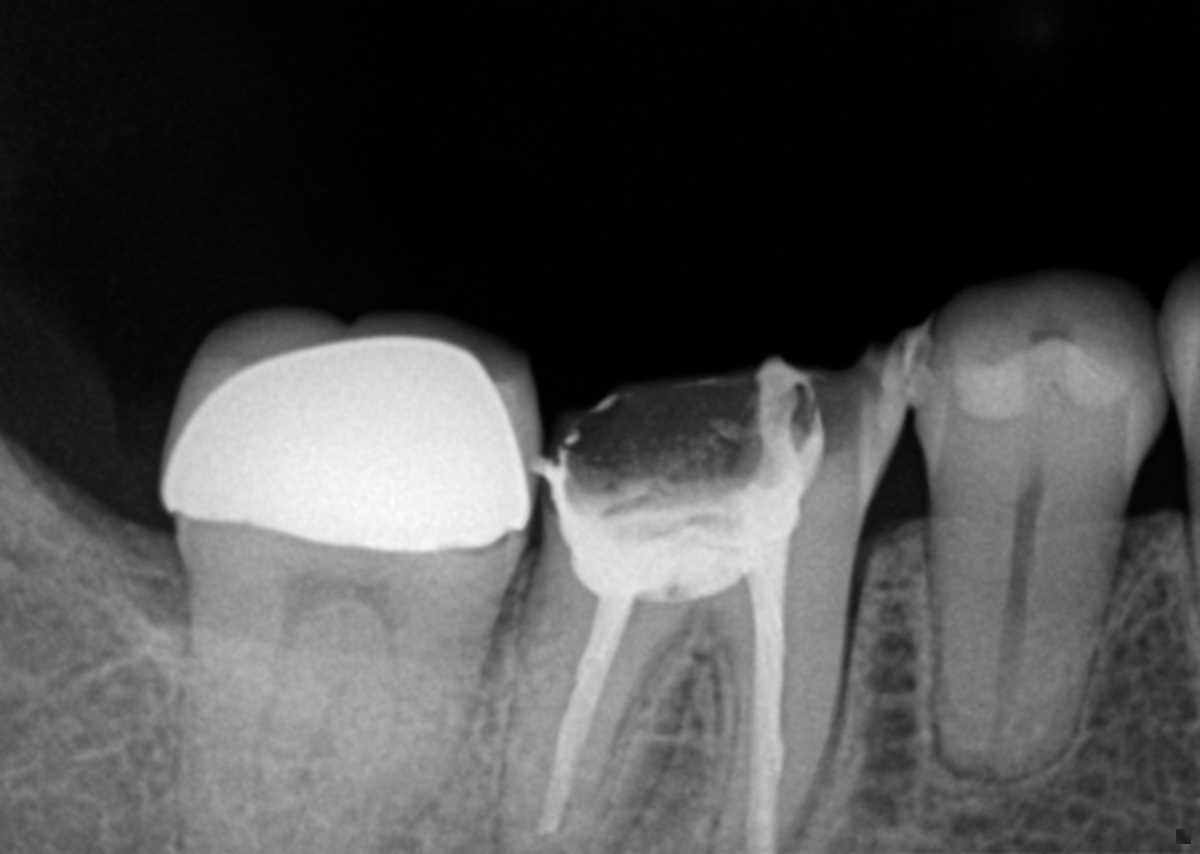Distal Canal: (251, 629, 300, 836)
Distal Root: (495, 573, 694, 854), (174, 621, 349, 854)
Main Canal: (990, 530, 1039, 796)
Main Root: (924, 515, 1138, 791)
Mesial Canal: (365, 636, 402, 795)
Mesial Root: (281, 621, 487, 854), (697, 557, 855, 854)
Root Canal Filling: (535, 606, 638, 841), (746, 586, 785, 854)
